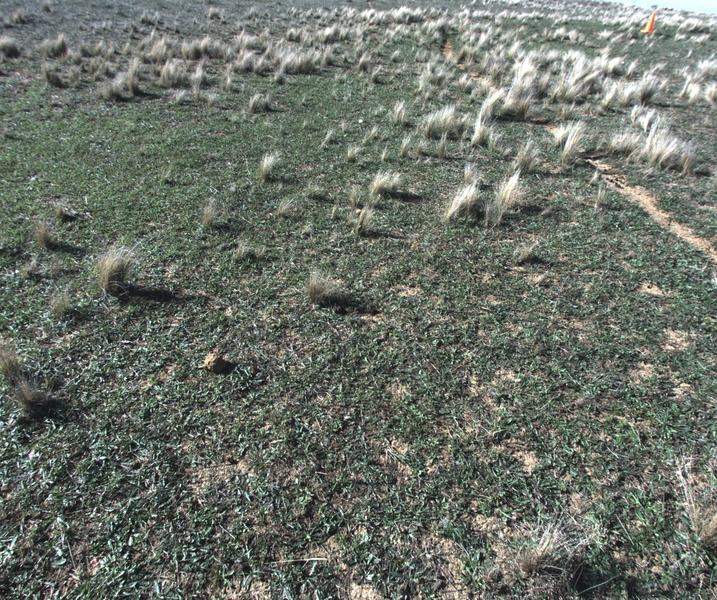st: (510, 500, 591, 583), (673, 463, 717, 560), (1, 349, 59, 421), (90, 240, 140, 303), (644, 130, 695, 174), (489, 172, 524, 223), (552, 66, 594, 105), (371, 169, 414, 204), (474, 82, 506, 128), (445, 178, 477, 223), (24, 213, 59, 254), (425, 107, 471, 137), (549, 124, 584, 163), (191, 204, 226, 240), (306, 272, 337, 310), (42, 295, 81, 324), (632, 105, 663, 141), (504, 88, 532, 124), (259, 147, 282, 189), (121, 60, 144, 102), (604, 131, 632, 163), (88, 83, 123, 108), (355, 203, 379, 238), (42, 63, 72, 91), (637, 79, 664, 108), (475, 121, 498, 153), (275, 50, 304, 75), (158, 58, 181, 89), (367, 60, 390, 91), (388, 98, 414, 125), (188, 57, 209, 89), (514, 143, 536, 169), (353, 49, 375, 75), (296, 51, 316, 79), (437, 134, 455, 165), (601, 81, 616, 111), (343, 141, 363, 163), (462, 159, 477, 184), (276, 198, 295, 217), (245, 92, 263, 112), (415, 137, 430, 161), (205, 89, 221, 111), (595, 191, 609, 212), (369, 124, 383, 145), (588, 167, 600, 188), (399, 134, 408, 162), (174, 91, 188, 107), (221, 69, 234, 86), (378, 142, 387, 162), (323, 129, 334, 143)
